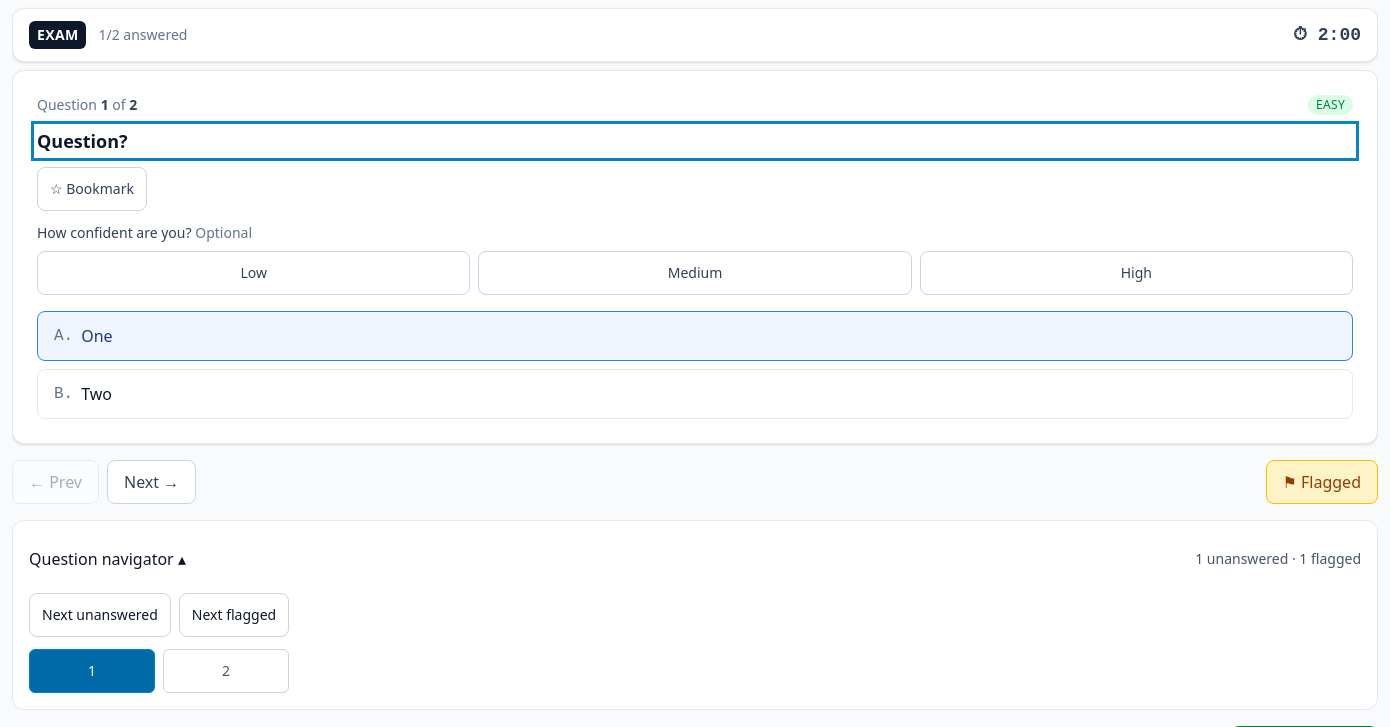
Test: exam recovery and timing › restores saved answers, flags, position and deadline
Step 1. Click the button "Next →" → [152, 482], box [107,460,196,504]
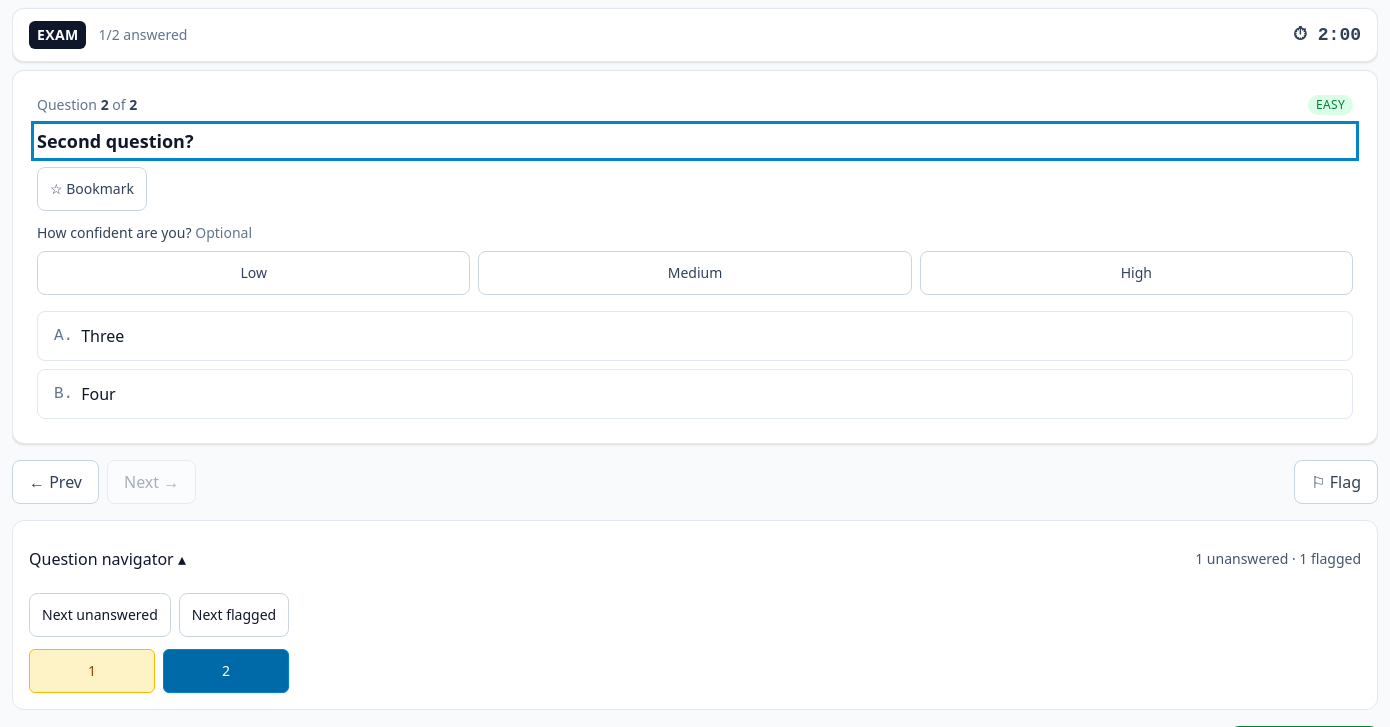
Now the heading "Second question?" is shown, box [37,129,194,153]
